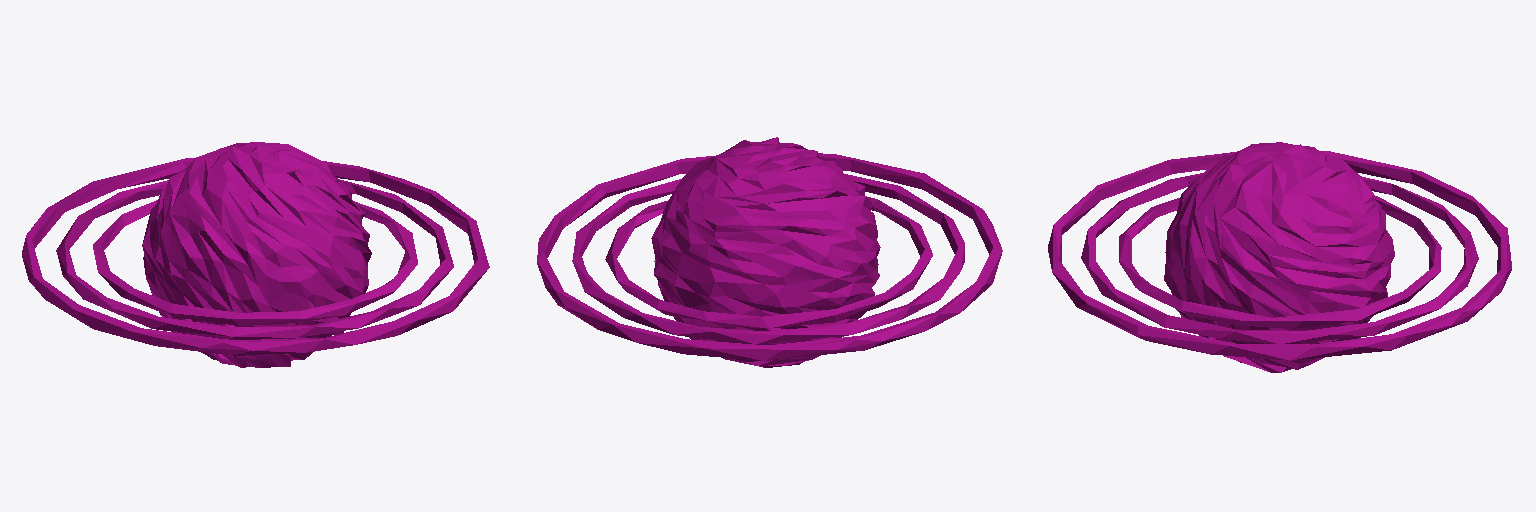
File: Saturn.obj
3 views of the same model, side by side, from view 1: azimuth 30°, elevation 25°; view 2: azimuth 150°, elevation 25°; view 3: azimuth 270°, elevation 25° (orthographic).
Visible parts, largest first — view 1: Saturn; view 2: Saturn; view 3: Saturn.
Part boxes in pixels (bbox=[...]): Saturn: bbox=[22, 142, 489, 367]; Saturn: bbox=[537, 137, 1002, 367]; Saturn: bbox=[1048, 142, 1511, 372].
Bounding box in the file's own units: 76.1 × 37.79 × 75.78.